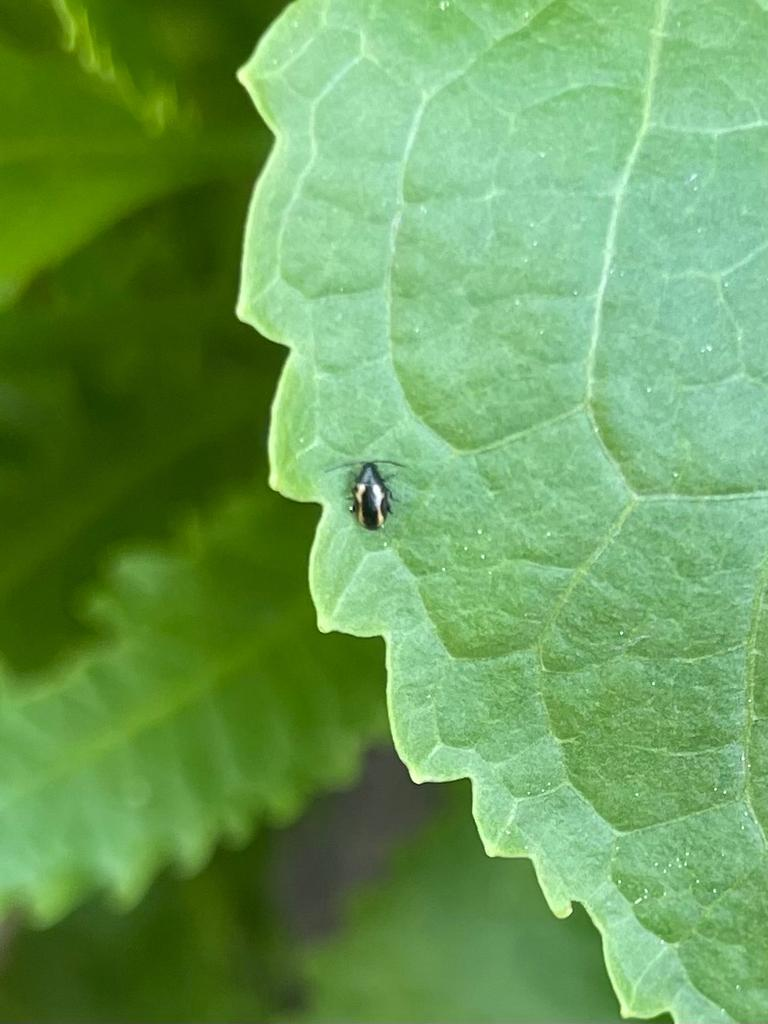flea_beetle: (313, 443, 431, 556)
